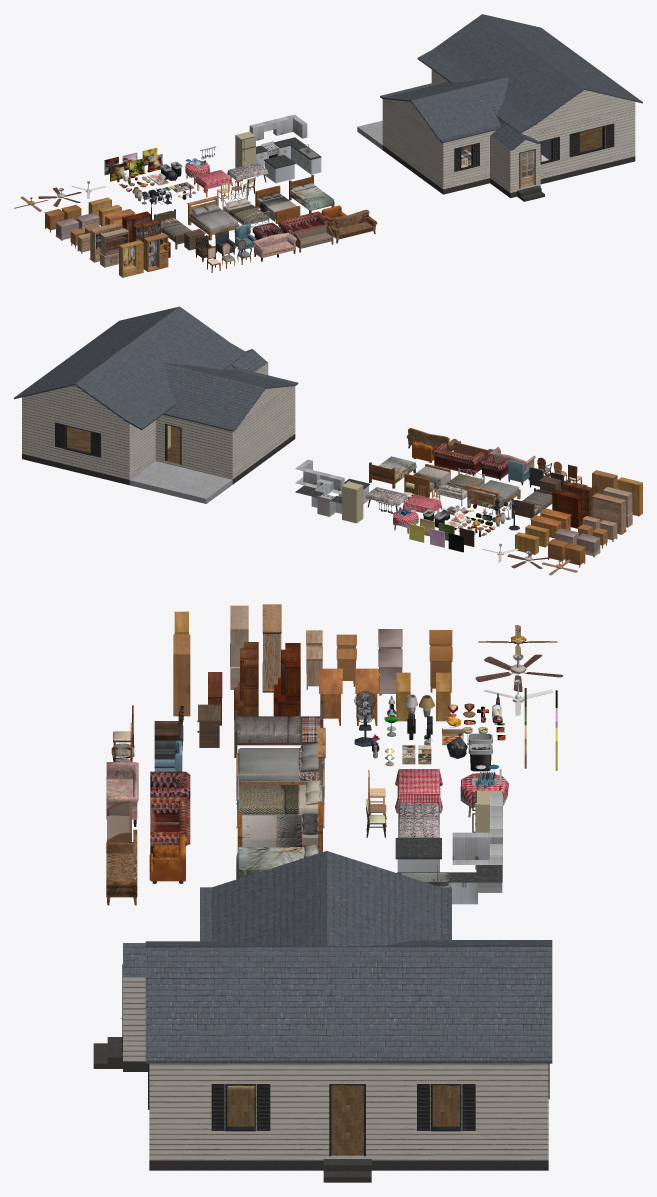
File: objects_interiorvillage_alpha.glb
3 renders of one model, top to bottom at view 1: azimuth 30°, elevation 25°; view 2: azimuth 150°, elevation 25°; view 3: azimuth 270°, elevation 25°, orthographic. The views are drawn at different scales.
Parts seen in each view (by area): view 1: House_Demo_001, House_Demo_040, bed_01, Kitchen, bed_03, bed_04, Armchair_08, bed_02, Wardrobe_01, Wardrobe, Armchair_06, Fitment_02 (+11 smaller); view 2: House_Demo_040, House_Demo_001, bed_01, bed_03, Armchair_04, Fitment, bed_04, bed_02, Refrigerator.001, Bookcase_01, bed, Kitchen (+14 smaller); view 3: House_Demo_001, House_Demo_040, bed_01, bed_02, bed_03, bed, Kitchen, Armchair_04, Armchair_08, Cupboard_01.003, bed_04, Bookcase_01 (+18 smaller).
Boxes of the visible parts, left/top/right/bottom form: House_Demo_001: left=380, top=14, right=642, bottom=150; House_Demo_040: left=357, top=69, right=635, bottom=198; bed_01: left=187, top=196, right=239, bottom=240; Kitchen: left=256, top=137, right=321, bottom=174; bed_03: left=255, top=185, right=300, bottom=223; bed_04: left=289, top=175, right=334, bottom=213; Armchair_08: left=329, top=209, right=377, bottom=243; bed_02: left=222, top=189, right=269, bottom=227; Wardrobe_01: left=143, top=233, right=168, bottom=271; Wardrobe: left=119, top=240, right=143, bottom=277; Armchair_06: left=252, top=232, right=296, bottom=261; Fitment_02: left=100, top=228, right=128, bottom=267; House_Demo_040: left=22, top=363, right=295, bottom=503; House_Demo_001: left=14, top=306, right=298, bottom=431; bed_01: left=466, top=480, right=520, bottom=514; bed_03: left=404, top=464, right=450, bottom=497; Armchair_04: left=432, top=442, right=484, bottom=475; Fitment: left=592, top=493, right=626, bottom=534; bed_04: left=369, top=456, right=416, bottom=488; bed_02: left=436, top=468, right=484, bottom=506; Refrigerator.001: left=342, top=481, right=363, bottom=523; Bookcase_01: left=552, top=490, right=583, bottom=528; bed: left=511, top=488, right=552, bottom=518; Kitchen: left=295, top=482, right=341, bottom=516; House_Demo_001: left=123, top=851, right=552, bottom=1063; House_Demo_040: left=123, top=977, right=548, bottom=1170; bed_01: left=236, top=727, right=325, bottom=798; bed_02: left=236, top=761, right=325, bottom=828; bed_03: left=237, top=801, right=322, bottom=850; bed: left=234, top=699, right=323, bottom=757; Kitchen: left=397, top=865, right=502, bottom=904; Armchair_04: left=150, top=797, right=190, bottom=853; Armchair_08: left=106, top=829, right=137, bottom=905; Cupboard_01.003: left=452, top=816, right=502, bottom=864; bed_04: left=236, top=829, right=322, bottom=879; Bookcase_01: left=273, top=643, right=300, bottom=716.
Bounding box in the file's own units: 36.21 × 5.52 × 13.59.
100 materials, 100 textured.
